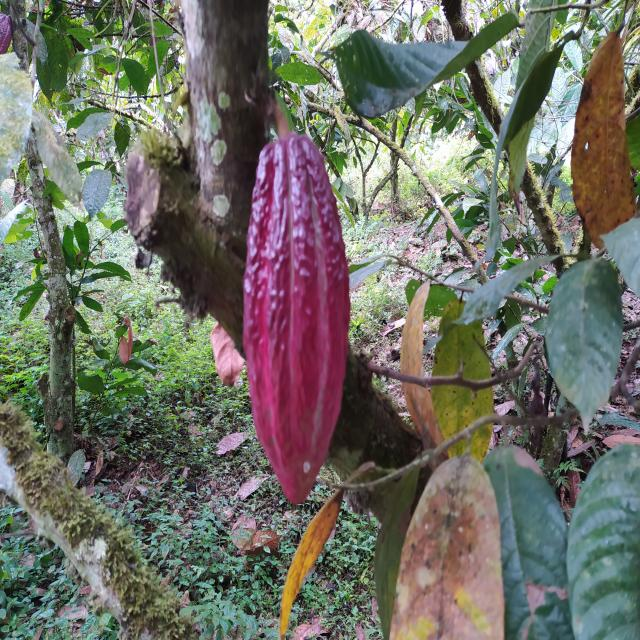Sana: (245, 137, 350, 508)
